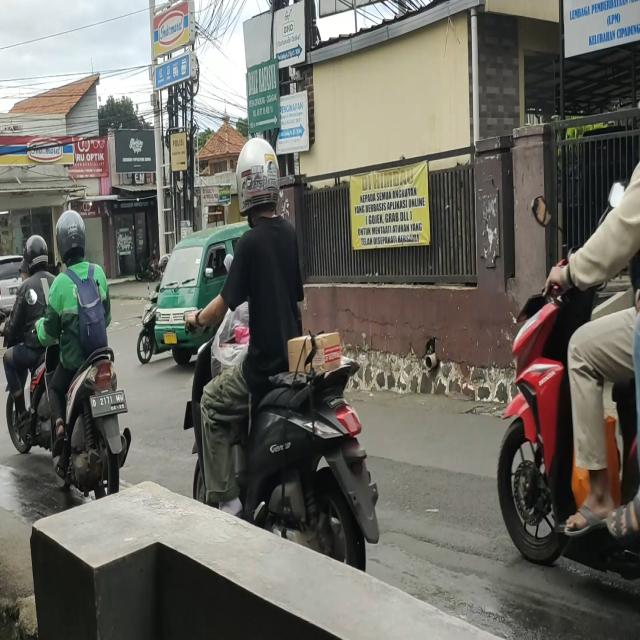helmet: (238, 137, 278, 220), (55, 211, 88, 268), (26, 235, 47, 272)
